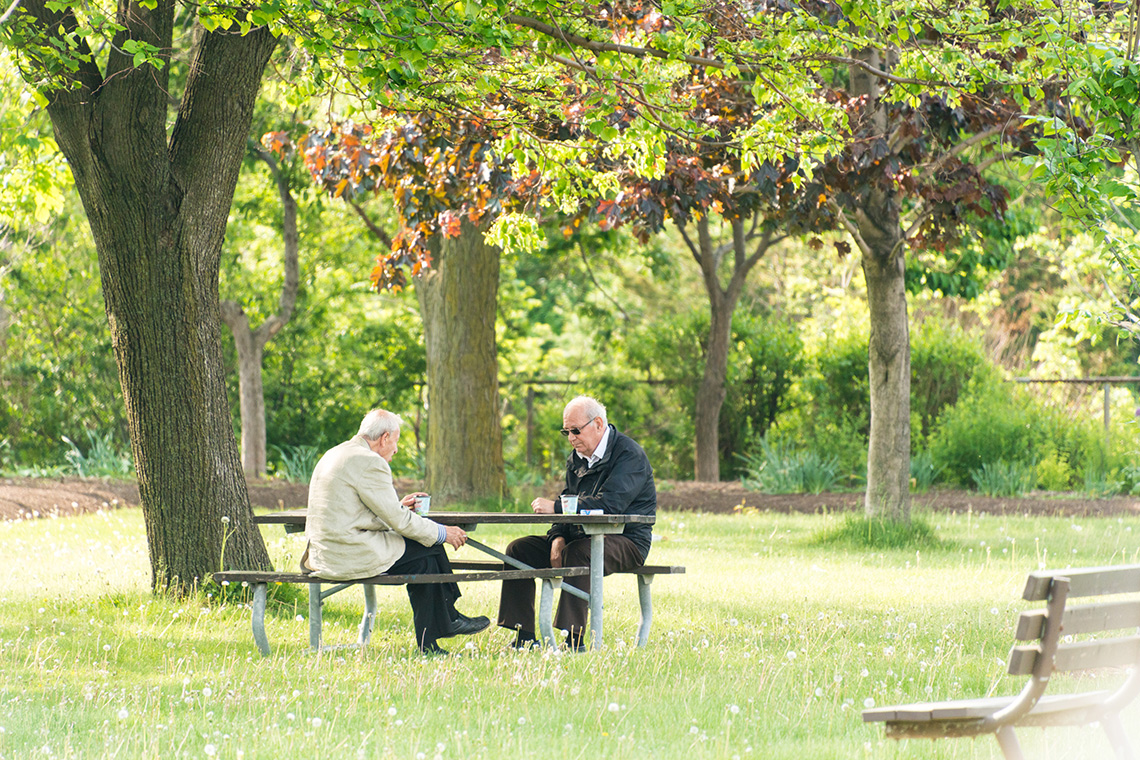Person: (245, 380, 505, 658), (491, 374, 681, 672)
